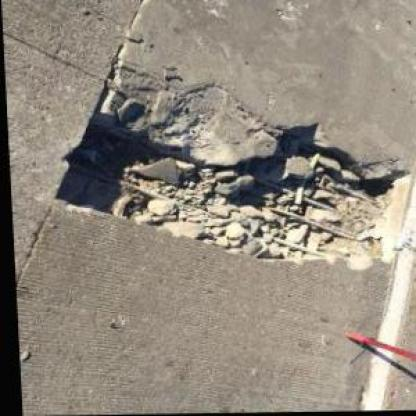pothole: (43, 100, 415, 273)
